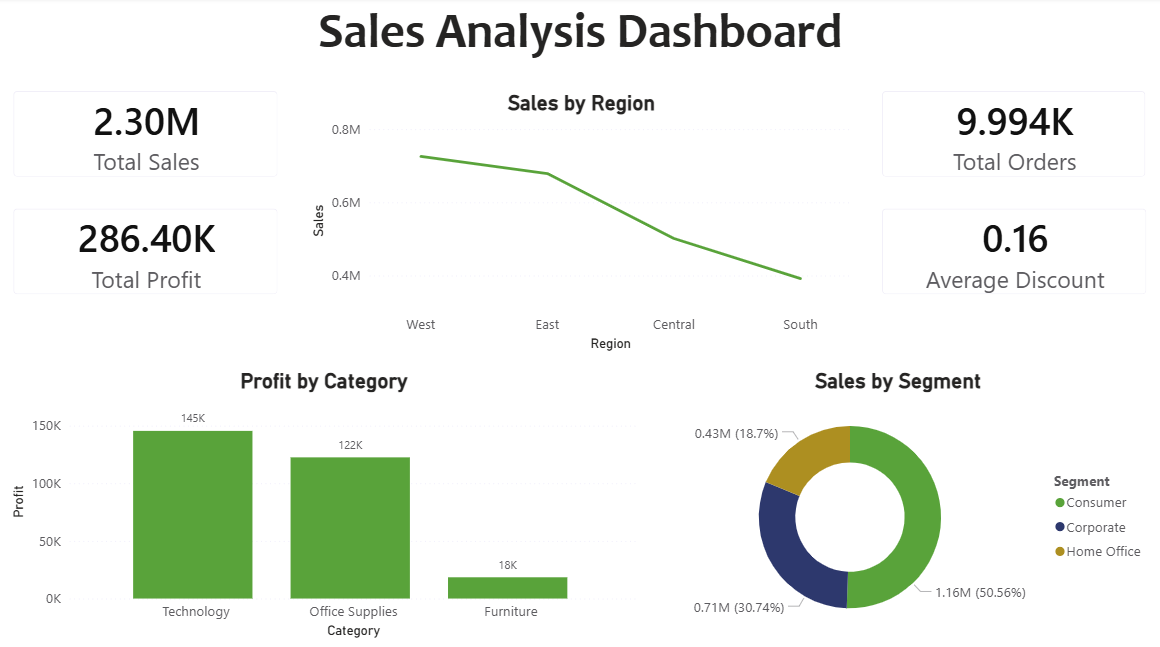

The dashboard page shown, as its layout file describes it:
{"tool":"powerbi","page":{"name":"Page 1","canvas":[1280,720],"ordinal":0},"visuals":[{"type":"cardVisual","fields":{"Data":["Sum(SampleSuperstore.Sales)"]},"box":[0,86.8,324.9,128.9],"z":0},{"type":"cardVisual","fields":{"Data":["Sum(SampleSuperstore.Profit)"]},"box":[0,215.8,324.9,128.9],"z":1000},{"type":"textbox","box":[0,0,1277.9,86.8],"z":2000},{"type":"cardVisual","fields":{"Data":["CountNonNull(SampleSuperstore.Quantity)"]},"box":[954.3,86.8,323.6,128.9],"z":3000},{"type":"cardVisual","fields":{"Data":["Avg(SampleSuperstore.Discount)"]},"box":[954.3,215.8,324.9,128.9],"z":4000},{"type":"lineChart","fields":{"Y":["Sum(SampleSuperstore.Sales)"],"Category":["SampleSuperstore.Region"]},"box":[338.7,102.7,602.9,291],"z":5000},{"type":"columnChart","fields":{"Y":["Sum(SampleSuperstore.Profit)"],"Category":["SampleSuperstore.Category"]},"box":[9.8,407.2,697,300.8],"z":6000},{"type":"donutChart","fields":{"Y":["Sum(SampleSuperstore.Sales)"],"Category":["SampleSuperstore.Segment"]},"box":[706.8,407.2,562.5,300.8],"z":7000}]}

Visuals, with their boxes in screenshot pixels (x1, y1, x2, y2), scaled from the page's 1280x720 canvas onto the 1160x647 screenshot:
cardVisual - Sum(SampleSuperstore.Sales): (0, 78, 294, 194)
cardVisual - Sum(SampleSuperstore.Profit): (0, 194, 294, 310)
textbox: (0, 0, 1158, 78)
cardVisual - CountNonNull(SampleSuperstore.Quantity): (865, 78, 1158, 194)
cardVisual - Avg(SampleSuperstore.Discount): (865, 194, 1159, 310)
lineChart - Sum(SampleSuperstore.Sales) x SampleSuperstore.Region: (307, 92, 853, 354)
columnChart - Sum(SampleSuperstore.Profit) x SampleSuperstore.Category: (9, 366, 641, 636)
donutChart - Sum(SampleSuperstore.Sales) x SampleSuperstore.Segment: (641, 366, 1150, 636)
